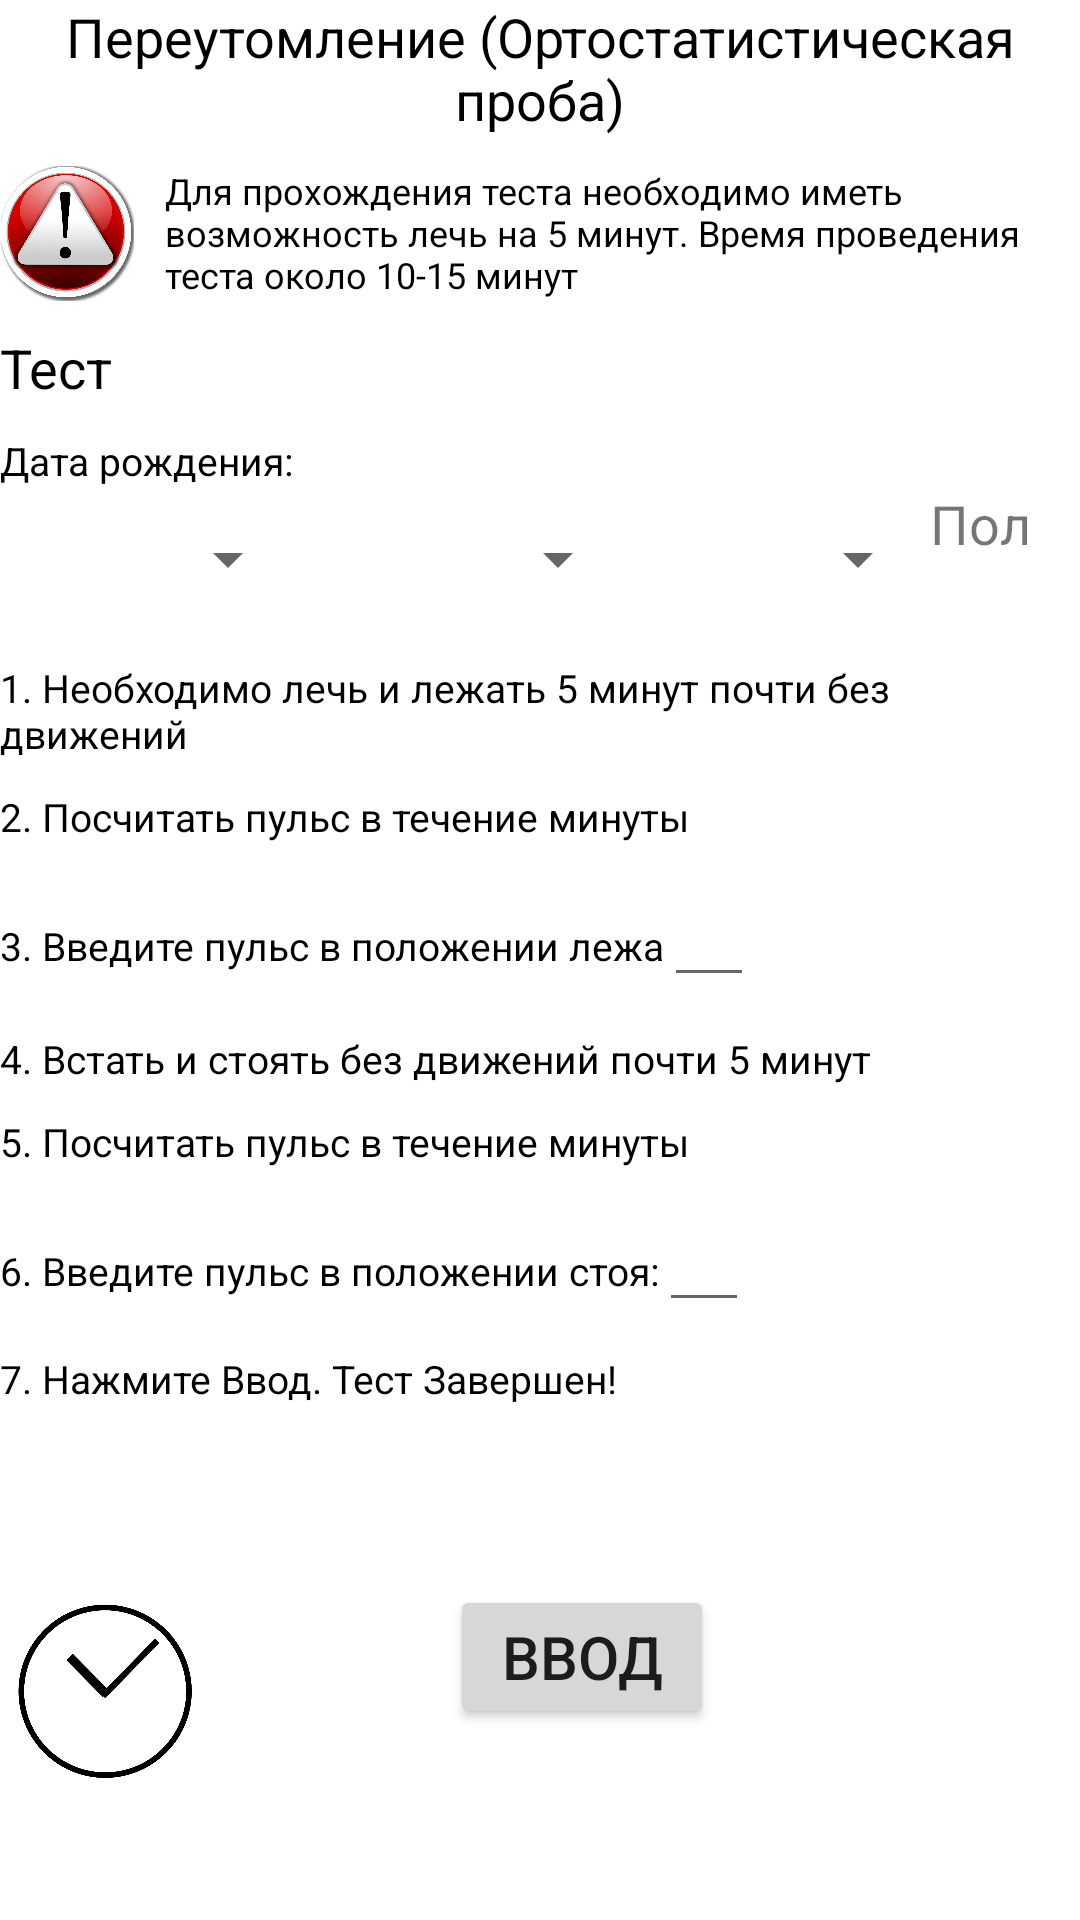

Icon click points for this 1080px×1920px phone screenshot, format point (x, y):
warning: point (67, 233)
